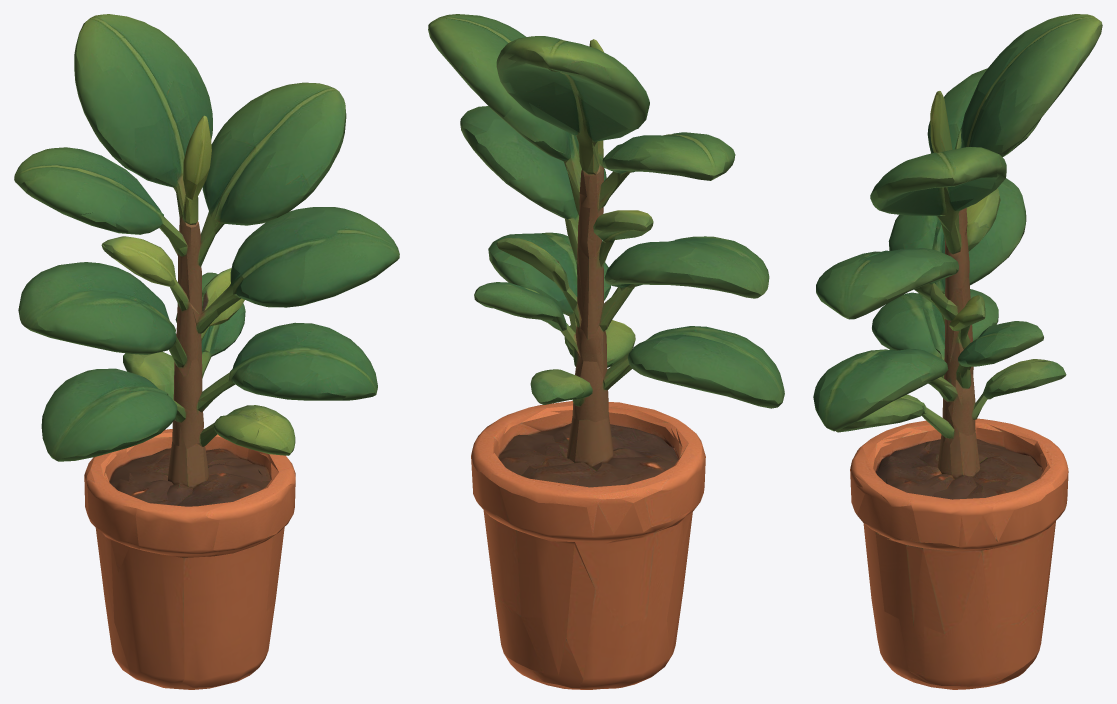
Rendered from plant_big.glb.
3 renders of one model, left to right at view 1: azimuth 30°, elevation 25°; view 2: azimuth 150°, elevation 25°; view 3: azimuth 270°, elevation 25°, orthographic. The views are drawn at different scales.
Parts seen in each view (by area): view 1: mesh_node; view 2: mesh_node; view 3: mesh_node.
Part boxes in pixels (bbox=[...]): mesh_node: bbox=[14, 14, 399, 689]; mesh_node: bbox=[428, 14, 784, 689]; mesh_node: bbox=[813, 14, 1102, 689].
Size of the model in its own units: 0.3249 by 0.59 by 0.246.
Materials: 1 (1 with a texture image).
